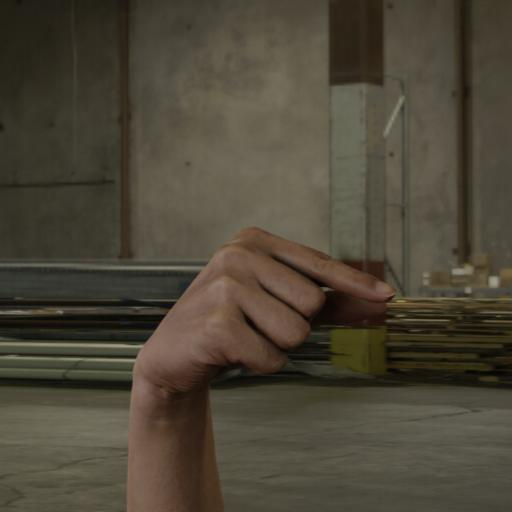G: (132, 221, 402, 390)
